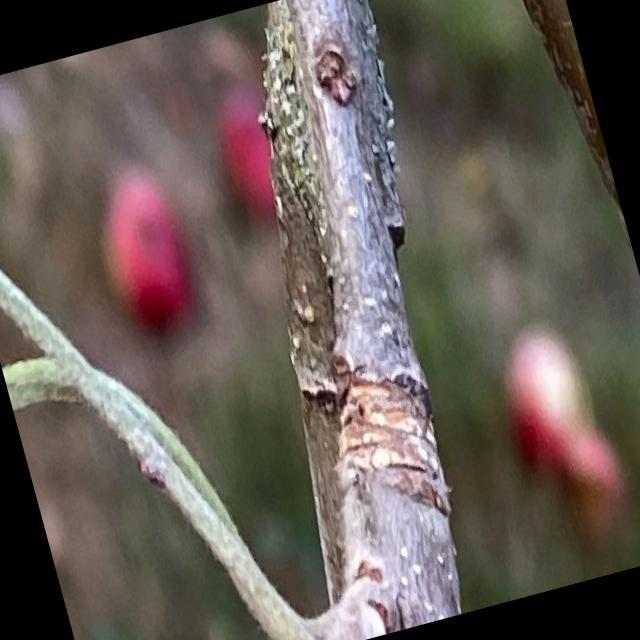100-_ripeness: (86, 170, 208, 350), (488, 322, 602, 488), (208, 92, 290, 226)
